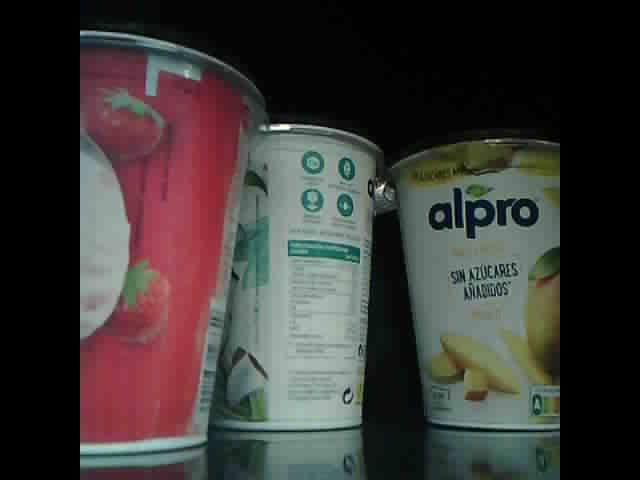alpro: (80, 18, 268, 457), (208, 117, 387, 434), (389, 126, 560, 434)
